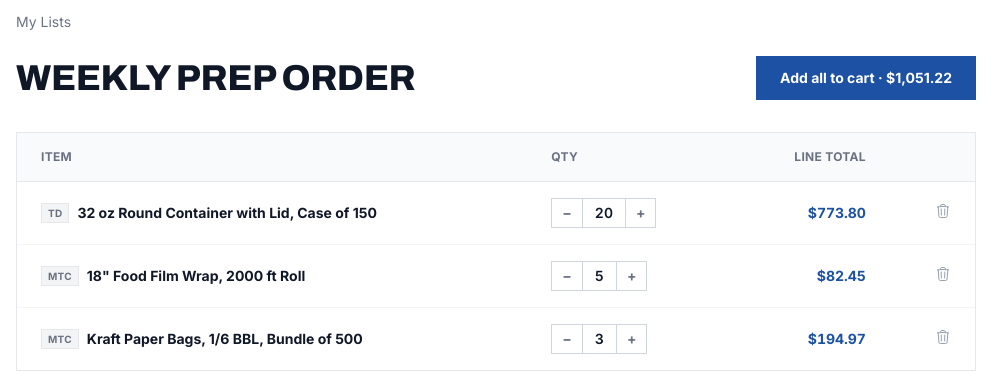
Test case: ListDetailPage — known list › removes a row via the trash/remove button
Click the button named "Remove" in the row of "TD" at (943, 210), box [935,202,951,218]
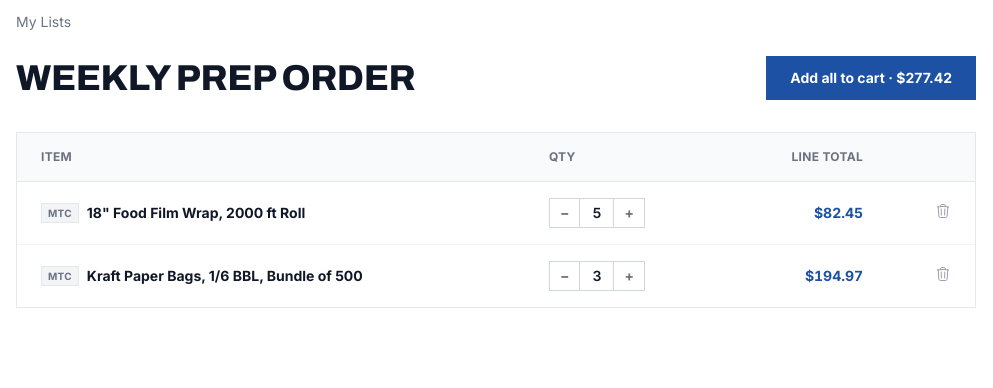
Result: the number of buttons named "Remove" is 2 at [935,202,951,218]; [935,266,951,282]
